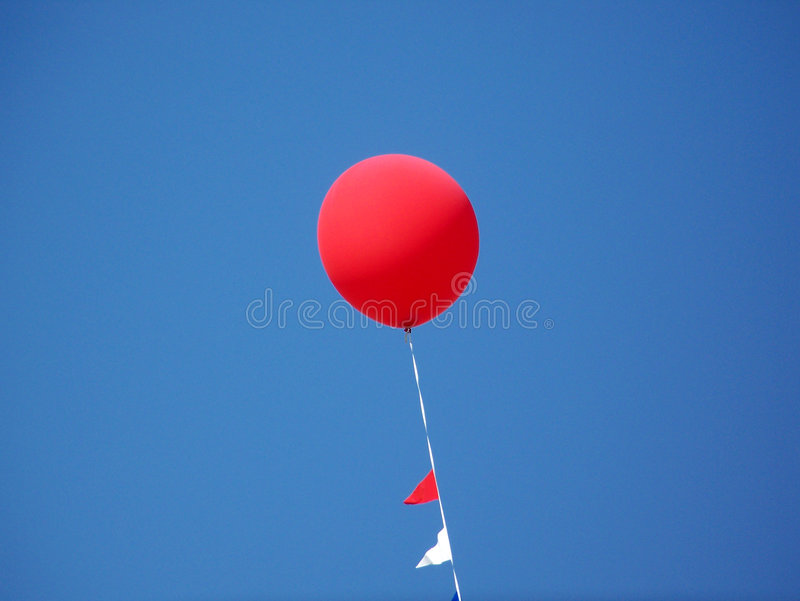Balloon: (315, 155, 481, 326)
